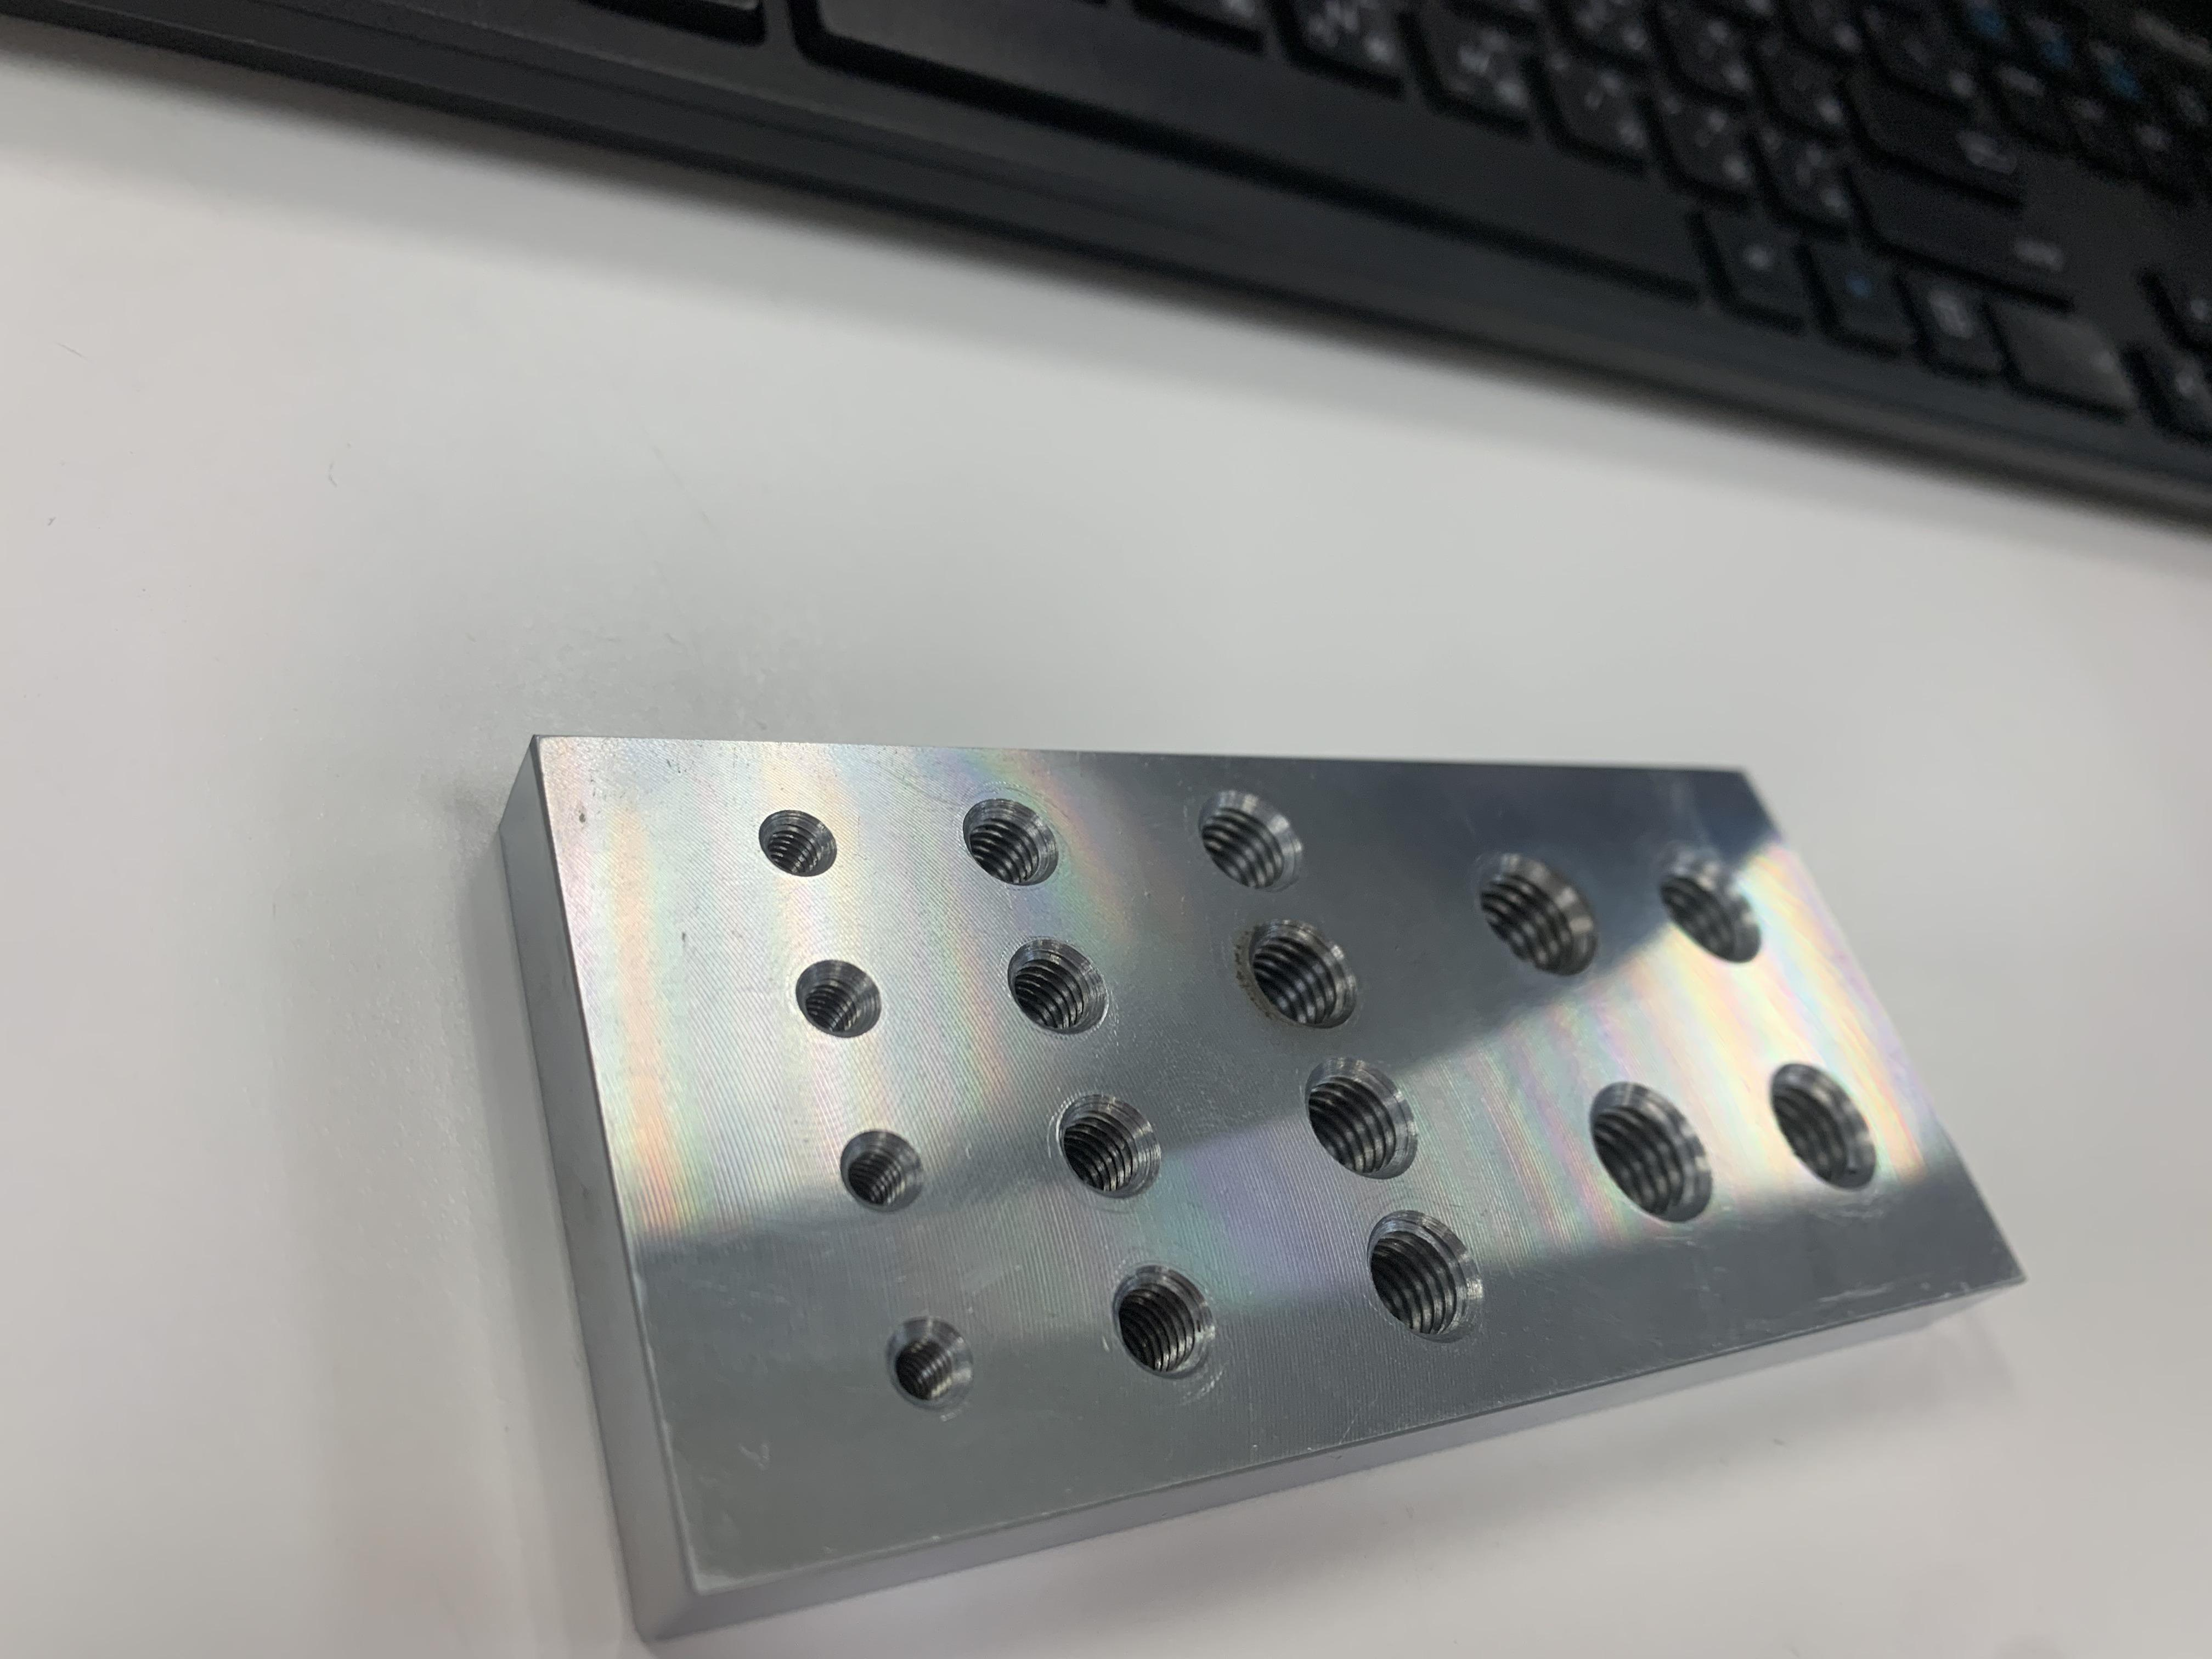hole: (1749, 1028, 1900, 1211), (1348, 1199, 1505, 1363), (1583, 1056, 1724, 1234), (1096, 1248, 1240, 1398), (1035, 1080, 1184, 1216), (1285, 1056, 1442, 1185), (1472, 842, 1611, 986), (853, 1291, 998, 1429), (1221, 910, 1374, 1039), (1179, 769, 1327, 899), (1649, 843, 1780, 974), (948, 781, 1075, 906), (777, 939, 899, 1065), (1000, 931, 1129, 1047), (826, 1110, 934, 1227), (744, 782, 850, 899)
